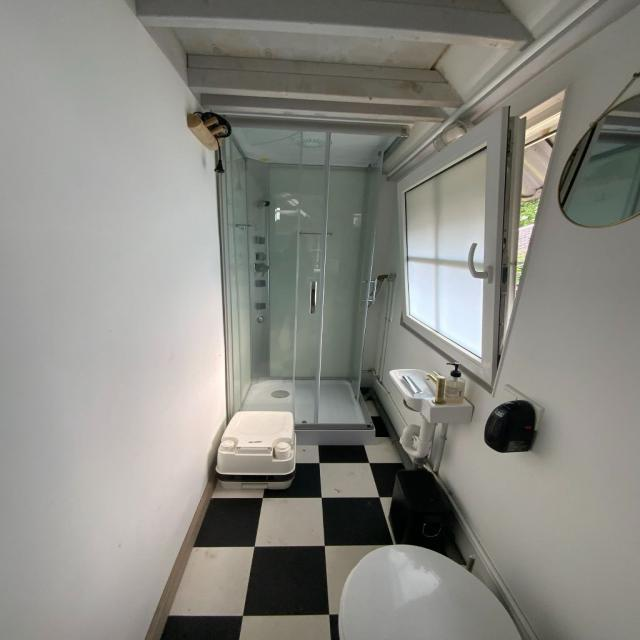douche: (212, 112, 412, 446)
toilet: (341, 544, 524, 640)
wastafel: (393, 368, 473, 470)
